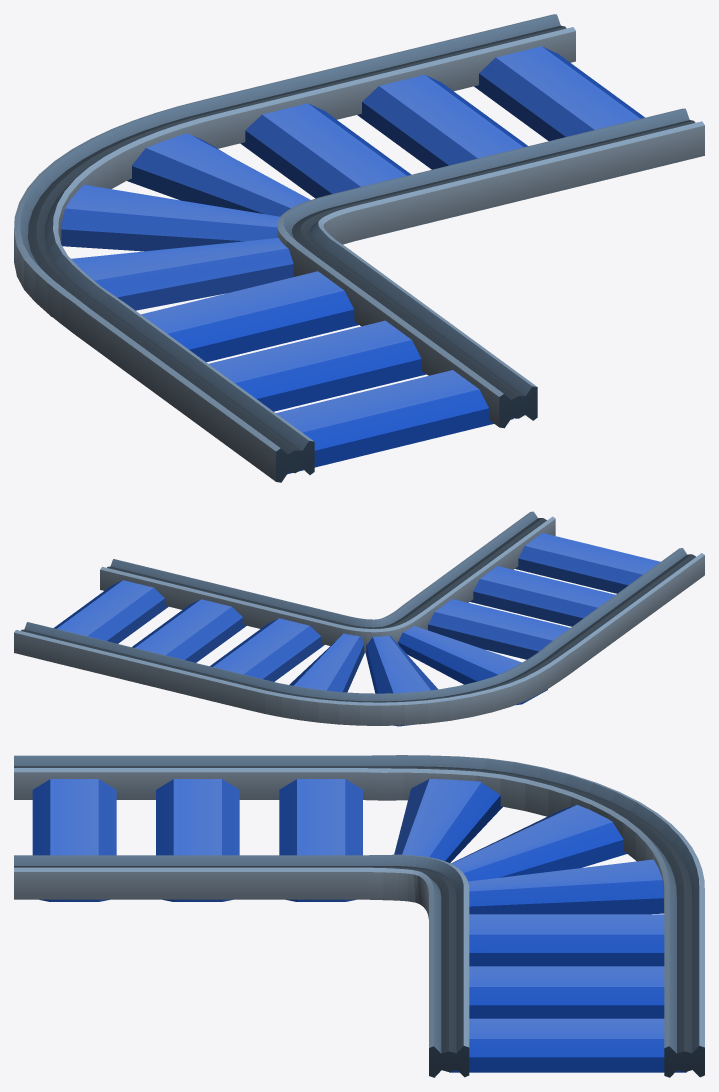
File: 2br-sag-ray.fbx
3 views of the same model, one above another, from view 1: azimuth 30°, elevation 25°; view 2: azimuth 150°, elevation 25°; view 3: azimuth 270°, elevation 25° (orthographic). The views are drawn at different scales.
Parts seen in each view (by area): view 1: 2br-Sag; view 2: 2br-Sag; view 3: 2br-Sag.
Part boxes in pixels (x1,y1,x2,y2): 2br-Sag: [14, 14, 704, 482]; 2br-Sag: [14, 511, 704, 726]; 2br-Sag: [14, 755, 704, 1077].
Size of the model in its own units: 375 by 21.43 by 374.
